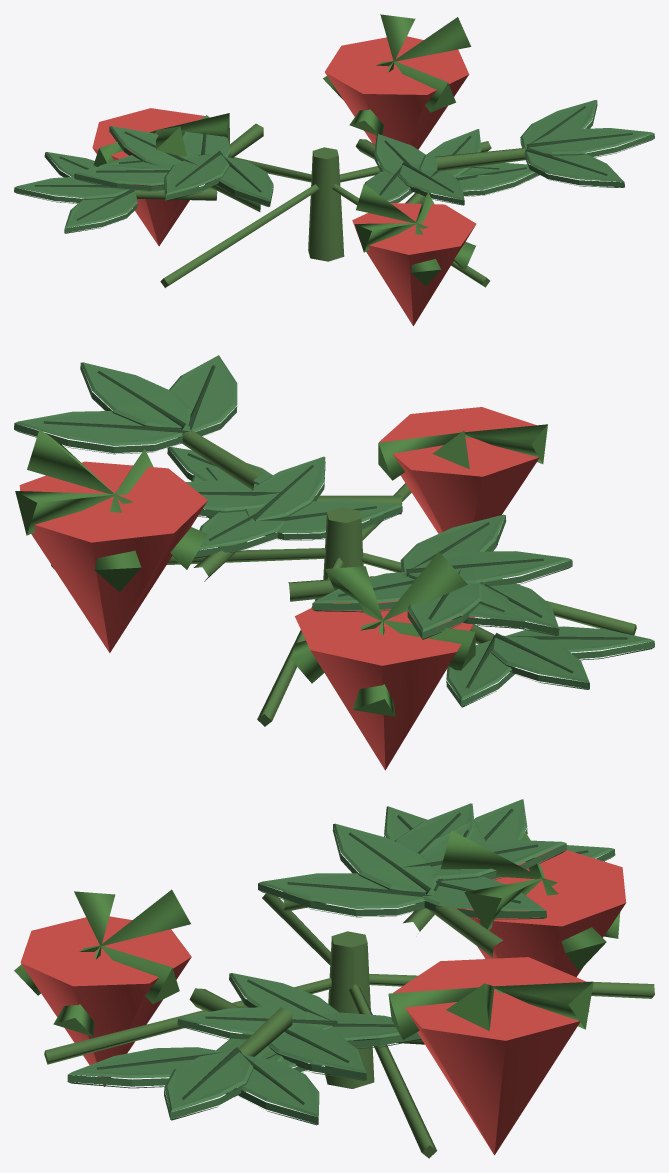
The model's file is strawberry.glb.
3 views of the same model, one above another, from view 1: azimuth 30°, elevation 25°; view 2: azimuth 150°, elevation 25°; view 3: azimuth 270°, elevation 25° (orthographic). The views are drawn at different scales.
Parts seen in each view (by area): view 1: cropLeafInstances, cropFruitInstances, cropStemInstances; view 2: cropFruitInstances, cropLeafInstances, cropStemInstances; view 3: cropFruitInstances, cropLeafInstances, cropStemInstances.
Part boxes in pixels (x1,y1,x2,y2): cropLeafInstances: (14, 100, 654, 233); cropFruitInstances: (92, 14, 476, 325); cropStemInstances: (160, 141, 491, 287); cropFruitInstances: (15, 407, 547, 770); cropLeafInstances: (14, 355, 654, 707); cropStemInstances: (51, 483, 636, 726); cropFruitInstances: (14, 830, 626, 1155); cropLeafInstances: (67, 799, 615, 1125); cropStemInstances: (44, 893, 654, 1158).
Size of what is drawn, in the model's own units: 1.5 by 0.4904 by 1.18.
